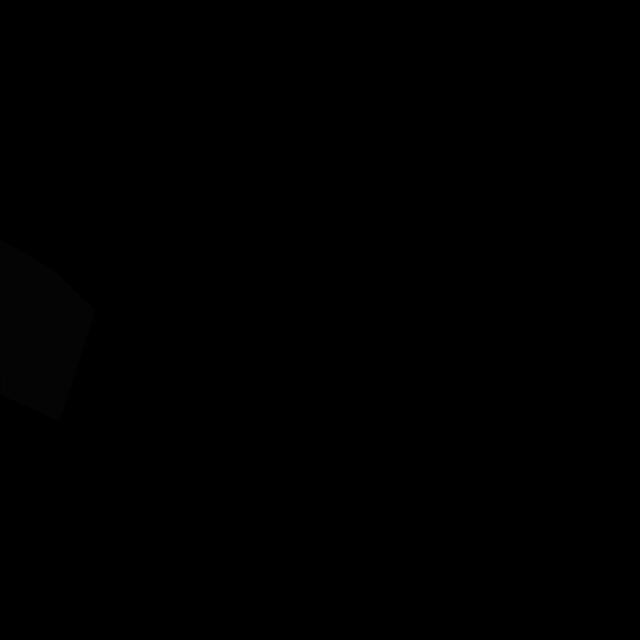soft_plastic: (0, 239, 96, 422)
